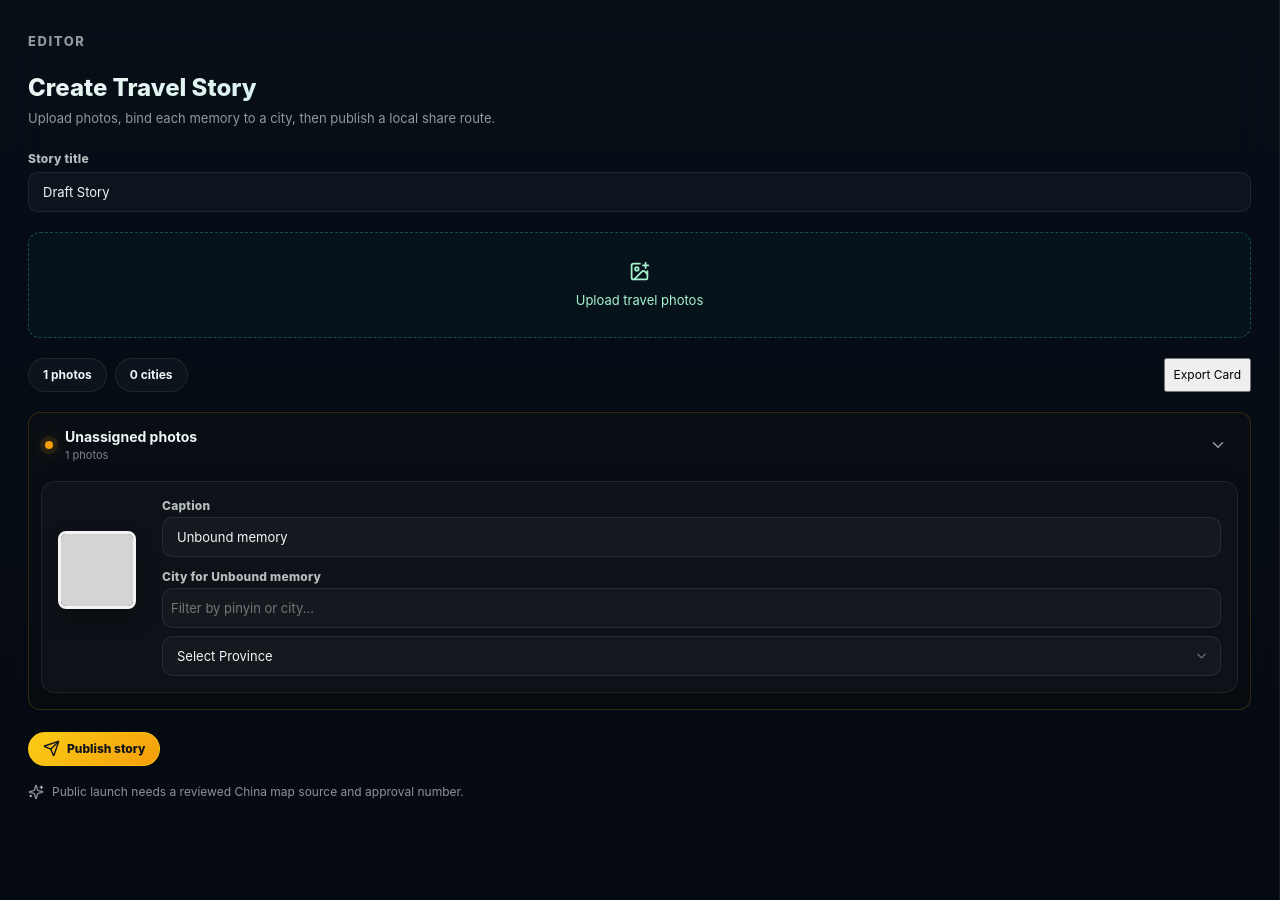
it: Editor › shows a publish validation message when a photo has no city
Click the button "Publish story": coordinates (94, 749) [28,732,160,766]
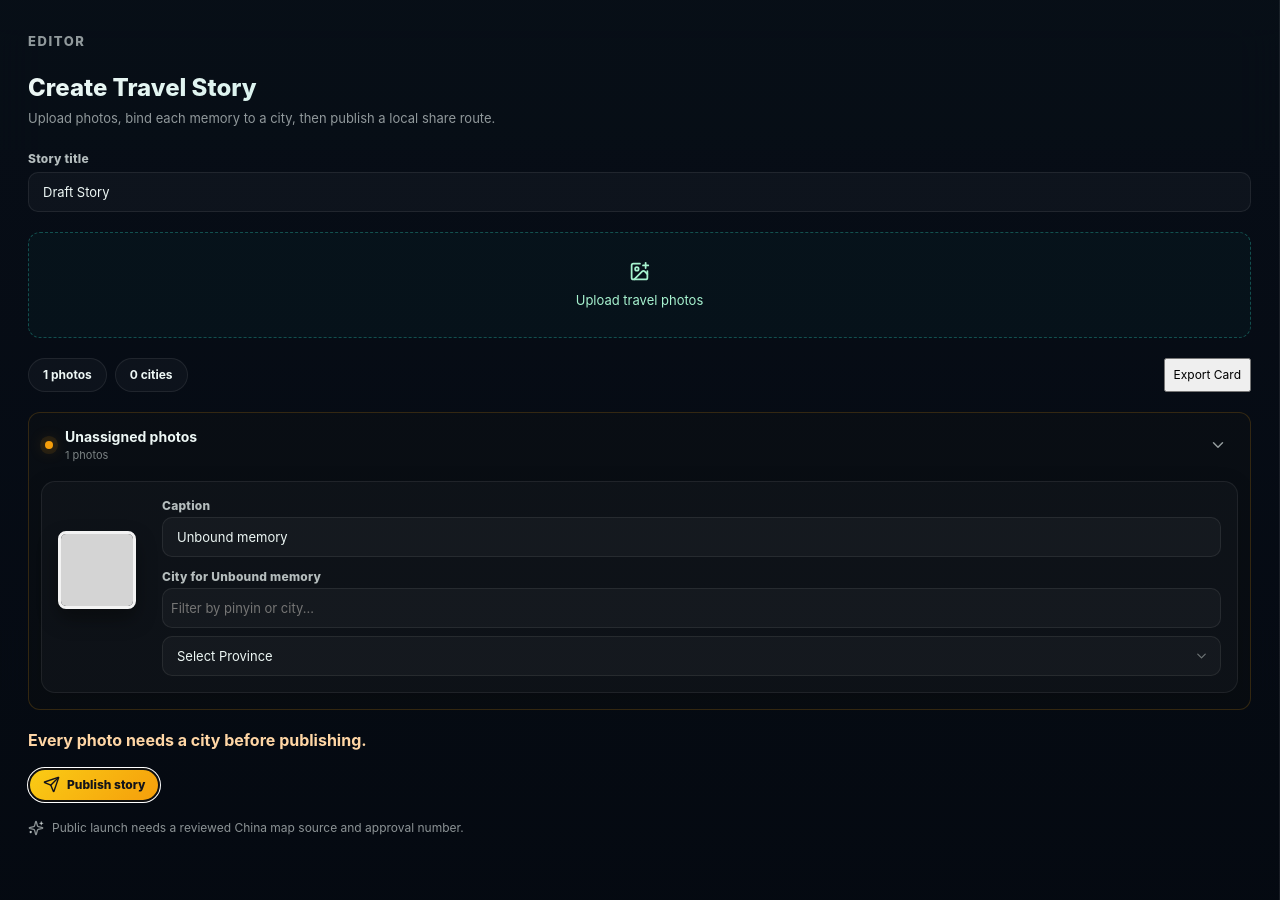
Now the text "Every photo needs a city before publishing." is shown, box [28,730,367,750]
